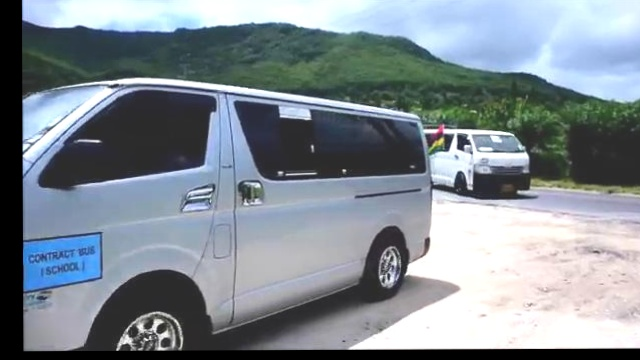van: (22, 71, 445, 347), (427, 121, 538, 206)
